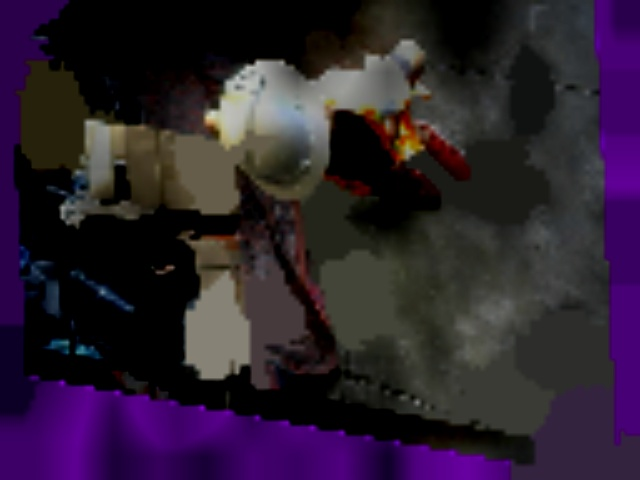one: (220, 64, 261, 99)
